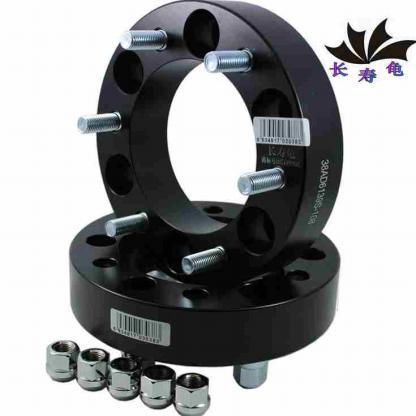FOD: (90, 0, 349, 289), (64, 195, 343, 370), (171, 370, 213, 416), (138, 362, 176, 409), (44, 337, 79, 386), (75, 346, 110, 394), (106, 354, 140, 403)
